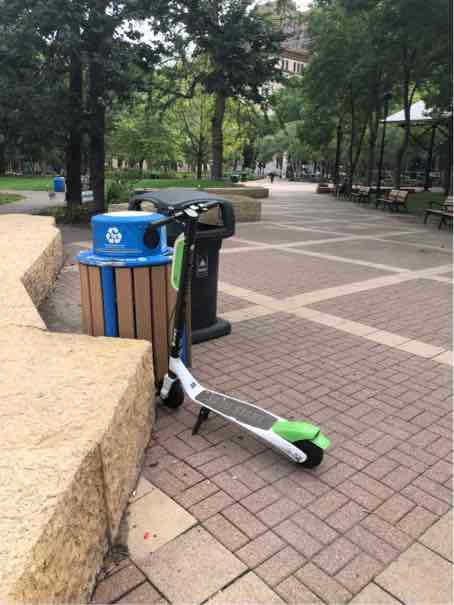scooter: (133, 204, 332, 466)
